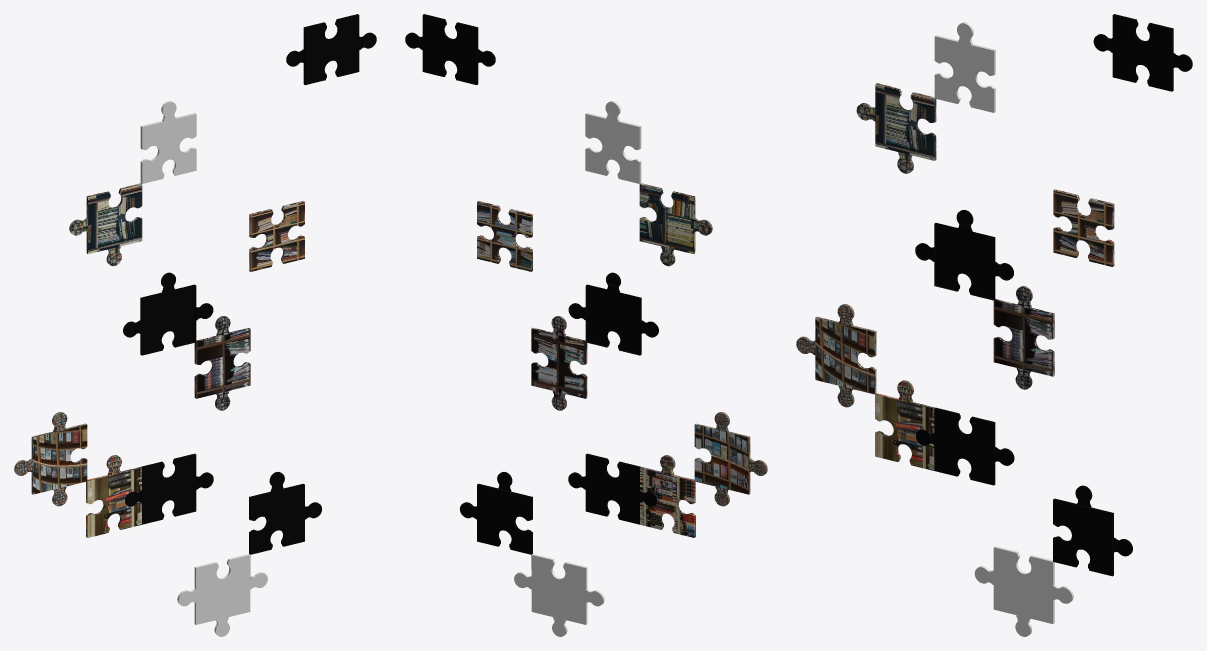
The model's file is puzzle.glb.
3 renders of one model, left to right at view 1: azimuth 30°, elevation 25°; view 2: azimuth 150°, elevation 25°; view 3: azimuth 330°, elevation 25°, orthographic. The views are drawn at different scales.
Parts seen in each view (by area): view 1: Cube.002, Cube.001, Cube.069, Cylinder.001, Cylinder.003, Cylinder.064, Cylinder.047, Cube.003, Cylinder.002, Cylinder.022, Cube.023; view 2: Cube.002, Cube.001, Cube.069, Cylinder.001, Cylinder.003, Cylinder.064, Cylinder.047, Cube.003, Cylinder.002, Cylinder.022, Cube.023; view 3: Cube.002, Cube.069, Cube.001, Cylinder.064, Cylinder.003, Cylinder.001, Cube.003, Cylinder.047, Cylinder.002, Cylinder.022, Cube.023.
Part boxes in pixels (x1=…): Cube.002: x1=14, y1=412, x2=87, y2=506; Cube.001: x1=177, y1=554, x2=267, y2=636; Cube.069: x1=123, y1=272, x2=213, y2=355; Cylinder.001: x1=69, y1=183, x2=142, y2=266; Cylinder.003: x1=286, y1=14, x2=376, y2=85; Cylinder.064: x1=194, y1=316, x2=250, y2=410; Cylinder.047: x1=249, y1=472, x2=321, y2=554; Cube.003: x1=125, y1=453, x2=213, y2=524; Cylinder.002: x1=140, y1=101, x2=196, y2=183; Cylinder.022: x1=86, y1=455, x2=141, y2=537; Cube.023: x1=249, y1=201, x2=304, y2=271; Cube.002: x1=694, y1=412, x2=767, y2=506; Cube.001: x1=514, y1=554, x2=604, y2=636; Cube.069: x1=568, y1=272, x2=658, y2=355; Cylinder.001: x1=639, y1=183, x2=712, y2=266; Cylinder.003: x1=405, y1=14, x2=495, y2=84; Cylinder.064: x1=531, y1=316, x2=587, y2=410; Cylinder.047: x1=460, y1=472, x2=532, y2=554; Cube.003: x1=568, y1=453, x2=656, y2=524; Cylinder.002: x1=585, y1=101, x2=641, y2=183; Cylinder.022: x1=640, y1=455, x2=695, y2=537; Cube.023: x1=477, y1=201, x2=532, y2=271; Cube.002: x1=796, y1=304, x2=876, y2=407; Cube.069: x1=915, y1=210, x2=1013, y2=300; Cube.001: x1=974, y1=546, x2=1073, y2=636; Cylinder.064: x1=993, y1=286, x2=1054, y2=389; Cylinder.003: x1=1093, y1=14, x2=1192, y2=91; Cylinder.001: x1=856, y1=83, x2=936, y2=173; Cube.003: x1=916, y1=407, x2=1014, y2=485; Cylinder.047: x1=1053, y1=485, x2=1132, y2=576; Cylinder.002: x1=934, y1=22, x2=995, y2=112; Cylinder.022: x1=875, y1=380, x2=935, y2=470; Cube.023: x1=1053, y1=189, x2=1114, y2=266.
Bounding box in the file's own units: 5.4 × 8.41 × 0.0368.
Materials: 11 (5 with a texture image).
